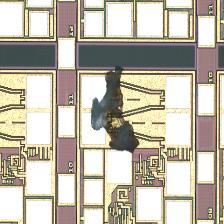PARTICLE: (90, 64, 145, 157)
